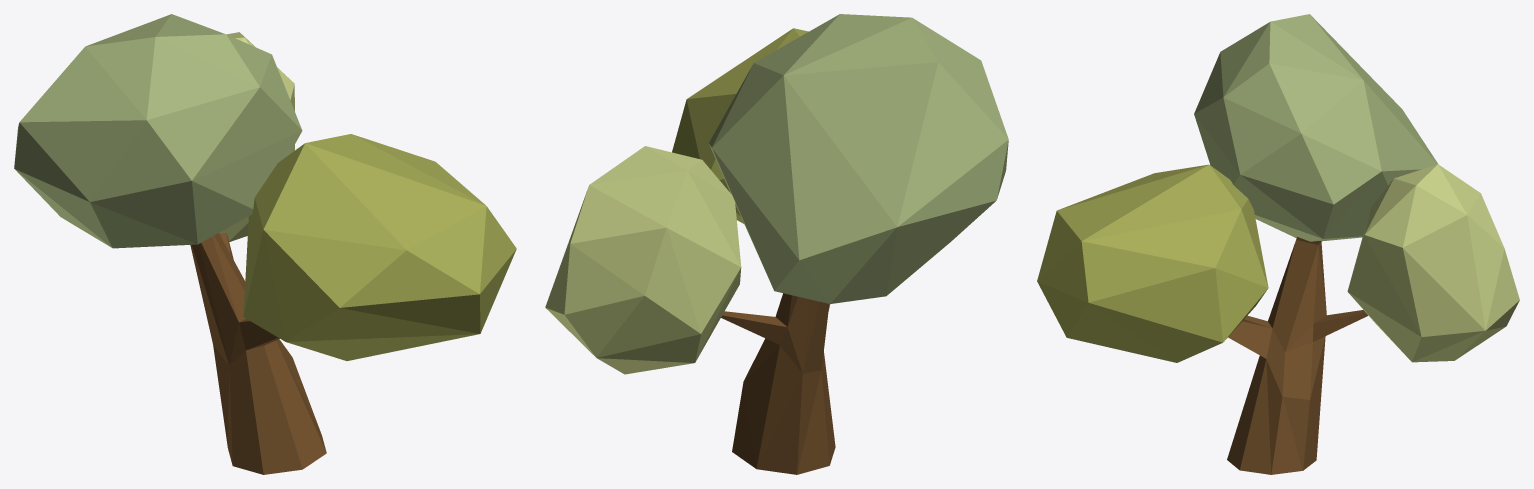
The model's file is bush_felix.fbx.
The picture shows the model from 3 angles, left to right: view 1: azimuth 30°, elevation 25°; view 2: azimuth 150°, elevation 25°; view 3: azimuth 270°, elevation 25°; orthographic projection. The views are drawn at different scales.
Parts seen in each view (by area): view 1: Cylinder.003; view 2: Cylinder.003; view 3: Cylinder.003.
Boxes of the visible parts, x1,y1,x2,y2 form: Cylinder.003: (14,14,516,474); Cylinder.003: (545,14,1008,474); Cylinder.003: (1037,14,1519,474).
Bounding box in the file's own units: 3.48 × 3.93 × 4.4.
